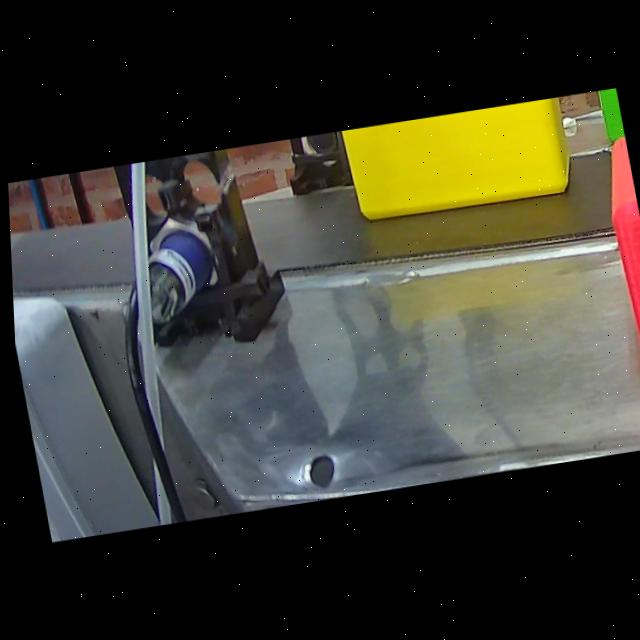greenBox: (591, 90, 624, 145)
redBox: (587, 135, 640, 386)
yellowBox: (332, 97, 587, 234)
